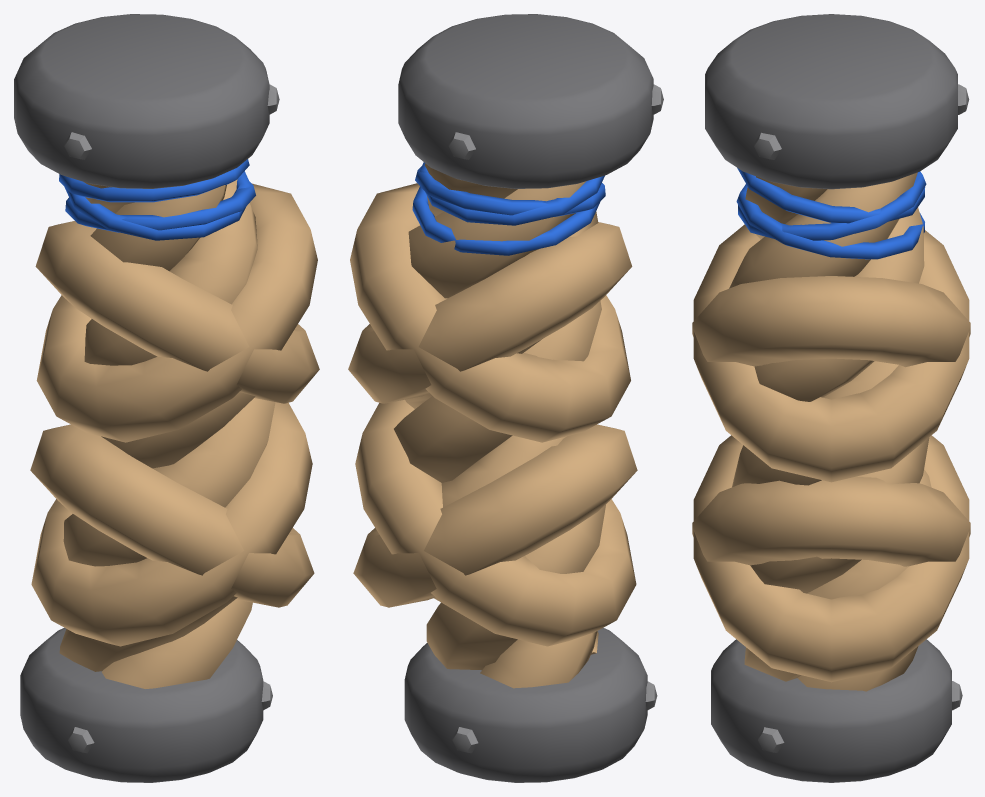
Rendered from Kit_Limb_Rope_L.glb.
The picture shows the model from 3 angles, left to right: view 1: azimuth 30°, elevation 25°; view 2: azimuth 150°, elevation 25°; view 3: azimuth 270°, elevation 25°; orthographic projection.
Visible parts, largest first — view 1: Kit_Limb_Rope_L; view 2: Kit_Limb_Rope_L; view 3: Kit_Limb_Rope_L.
Boxes of the visible parts, <box> form: Kit_Limb_Rope_L: <box>14,14,319,782</box>; Kit_Limb_Rope_L: <box>348,14,663,782</box>; Kit_Limb_Rope_L: <box>692,14,970,782</box>.
Size of the model in its own units: 0.1512 by 0.3659 by 0.1354.
